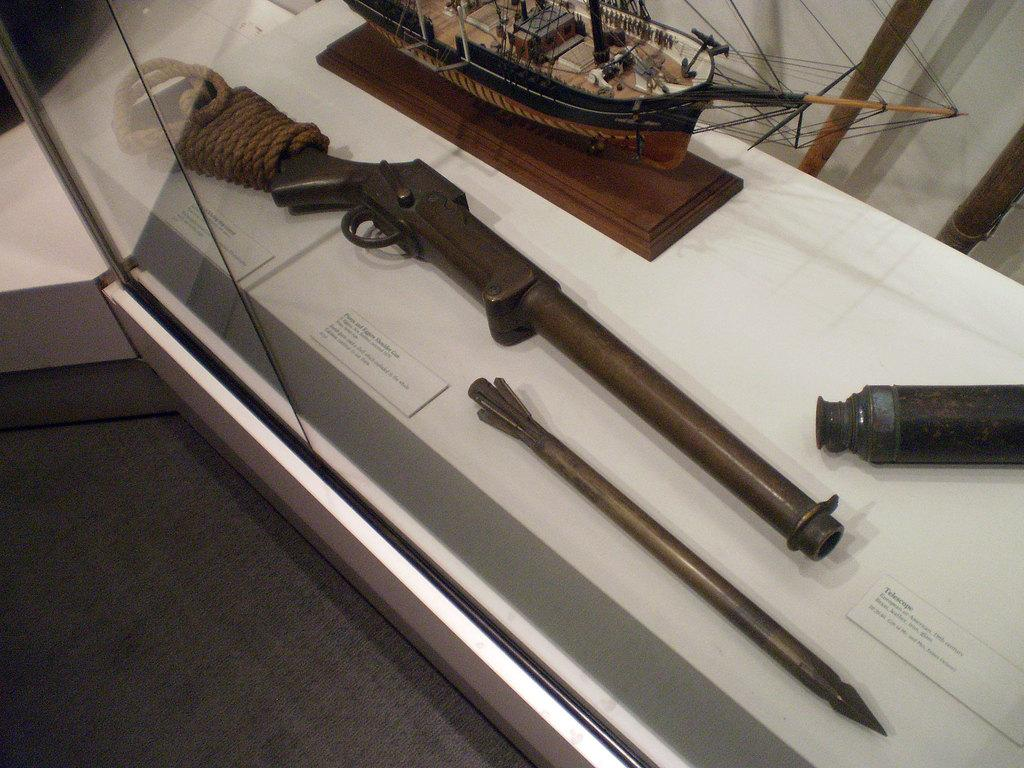Shotgun: (109, 65, 847, 562)
